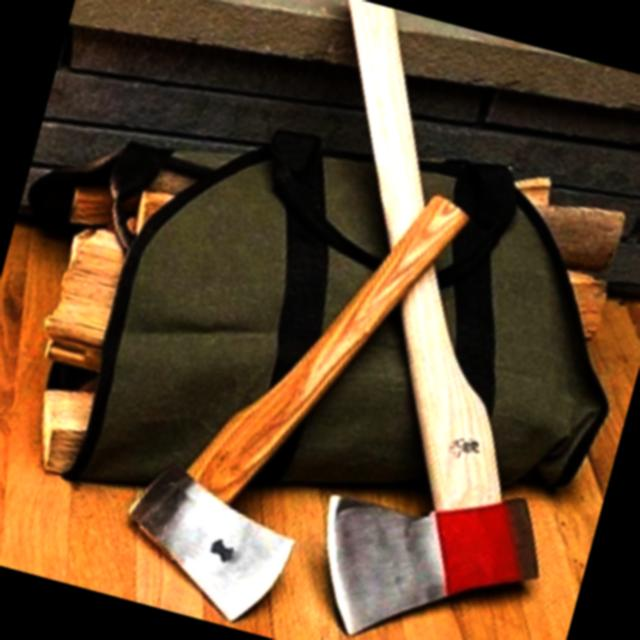ax: (187, 0, 640, 640), (95, 131, 477, 640)
